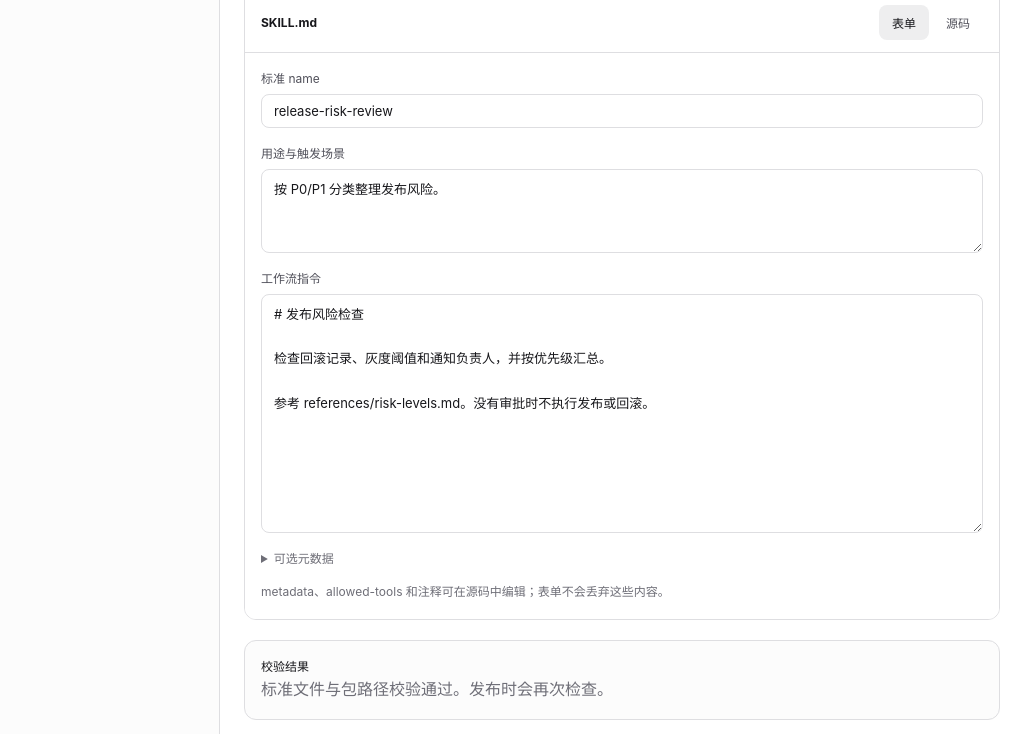
it: Skill file package editor › filters by machine name without discarding the selected Skill's edits
(page scrolled)
Replace the text in the text box named "Skill 工作流指令" with "keep my workflow" at (622, 414), box x1=261 y1=294 x2=983 y2=533
(page scrolled)
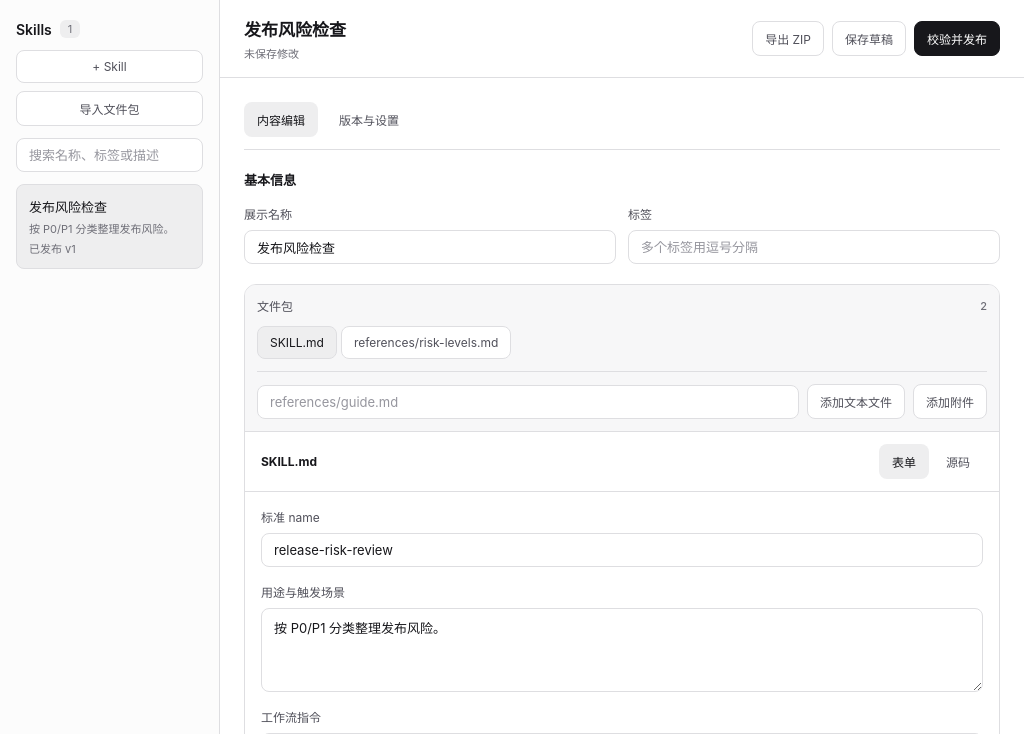
Type "release-risk" into the search field named "搜索 Skill" at (110, 155), box x1=16 y1=138 x2=203 y2=172
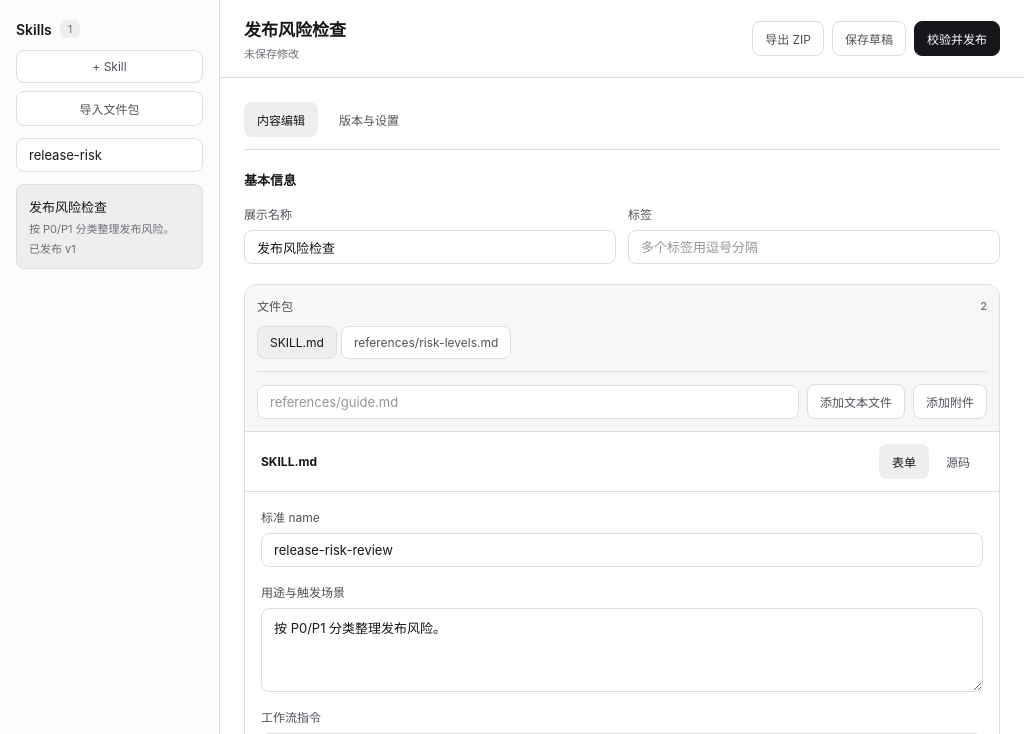
Check: the button "发布风险检查 按 P0/P1 分类整理发布风险。 已发布 v1" is shown, box x1=16 y1=184 x2=203 y2=269
Replace the text in the search field named "搜索 Skill" with "missing" at (110, 155), box x1=16 y1=138 x2=203 y2=172
(page scrolled)
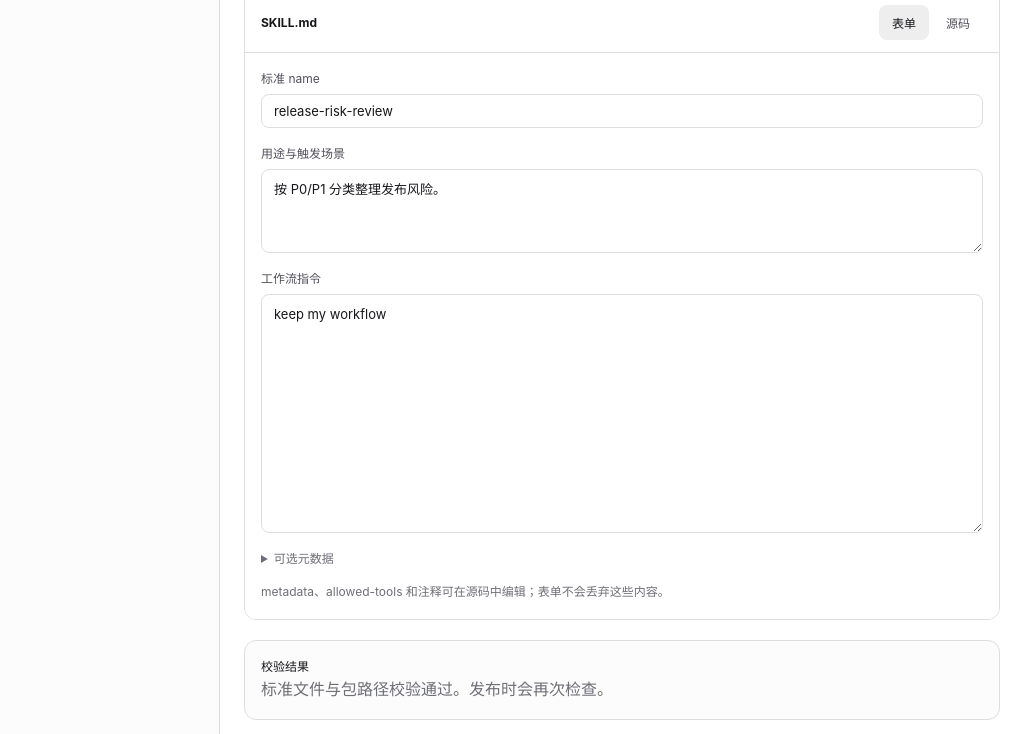
Check: the button "发布风险检查 按 P0/P1 分类整理发布风险。 已发布 v1" is gone
